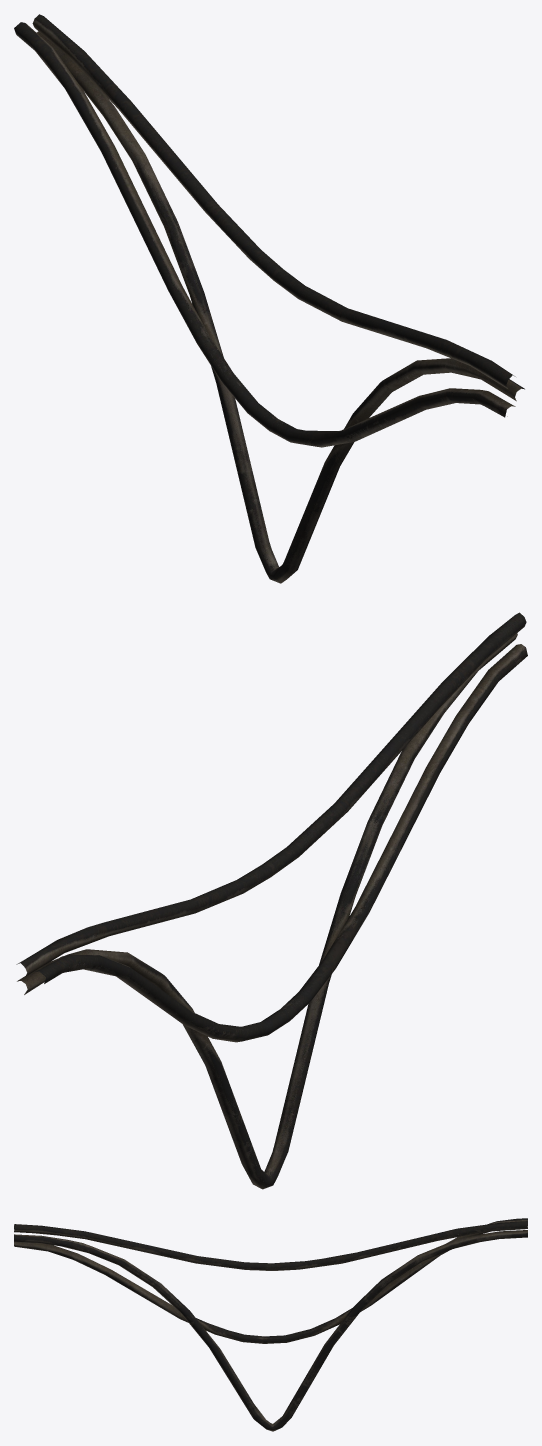
Rendered from SM_Cables01.glb.
The picture shows the model from 3 angles, top to bottom: view 1: azimuth 30°, elevation 25°; view 2: azimuth 150°, elevation 25°; view 3: azimuth 270°, elevation 25°; orthographic projection. The views are drawn at different scales.
Visible parts, largest first — view 1: SM_Cables01; view 2: SM_Cables01; view 3: SM_Cables01.
Boxes of the visible parts, x1,y1,x2,y2 form: SM_Cables01: (14,14,524,583); SM_Cables01: (16,612,527,1189); SM_Cables01: (14,1218,527,1431).
Size of the model in its own units: 0.0819 by 0.8996 by 1.99.
1 material, 1 textured.
